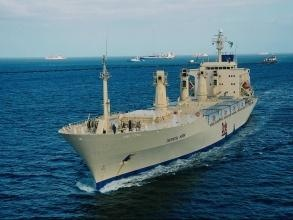warship: (41, 29, 262, 185)
